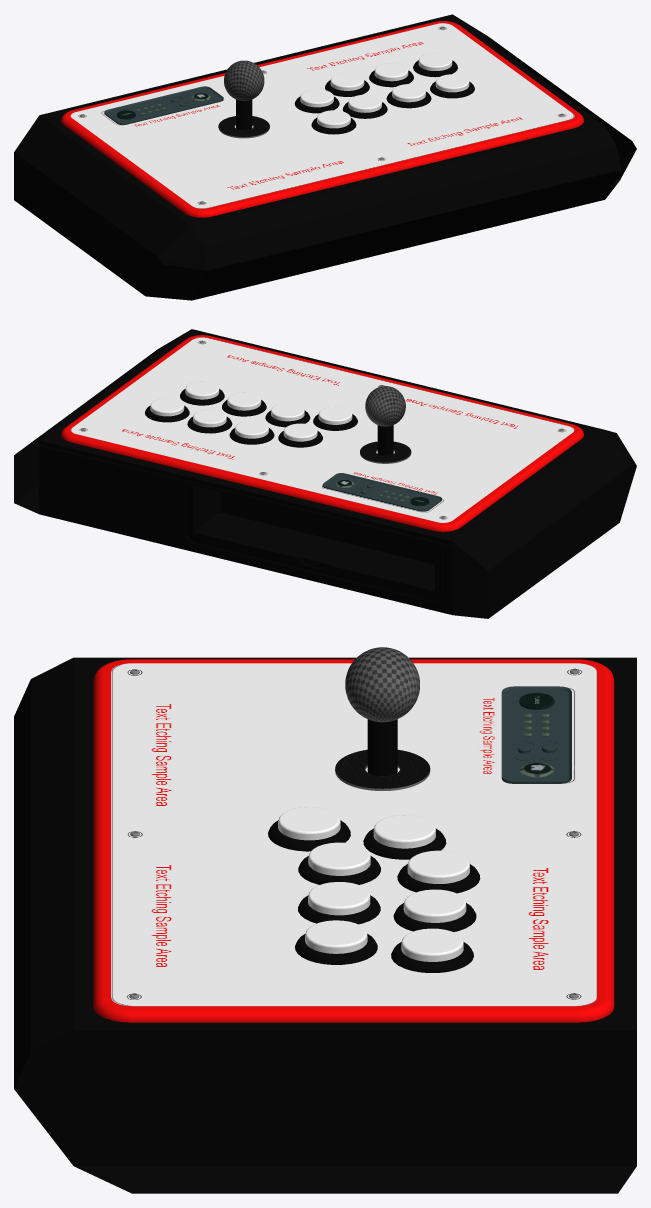
The model's file is TEStick.fbx.
3 views of the same model, one above another, from view 1: azimuth 30°, elevation 25°; view 2: azimuth 150°, elevation 25°; view 3: azimuth 270°, elevation 25° (orthographic). The views are drawn at different scales.
Parts seen in each view (by area): view 1: LaminatedTopTran, StickBodyTran, SideLeftTran, BezelTran, TurboPanelTran, SideRightTran, BalltopTran, DustCoverTran, Plunger8Tran, Plunger1Tran, Plunger2Tran, Plunger5Tran (+5 smaller); view 2: LaminatedTopTran, StickBodyTran, SideLeftTran, BezelTran, SideRightTran, TurboPanelTran, BalltopTran, DustCoverTran, Plunger2Tran, Plunger4Tran, Plunger8Tran, Plunger1Tran (+5 smaller); view 3: LaminatedTopTran, StickBodyTran, SideRightTran, BezelTran, TurboPanelTran, BalltopTran, DustCoverTran, Plunger4Tran, Plunger1Tran, Plunger3Tran, Plunger8Tran, Plunger6Tran (+12 smaller).
Boxes of the visible parts, x1,y1,x2,y2 form: LaminatedTopTran: (70, 23, 574, 208); StickBodyTran: (39, 14, 621, 300); SideLeftTran: (14, 115, 207, 300); BezelTran: (61, 21, 583, 217); TurboPanelTran: (104, 86, 223, 124); SideRightTran: (455, 16, 636, 198); BalltopTran: (224, 60, 264, 101); DustCoverTran: (218, 116, 269, 138); Plunger8Tran: (435, 74, 469, 92); Plunger1Tran: (300, 89, 333, 107); Plunger2Tran: (330, 73, 364, 90); Plunger5Tran: (317, 110, 350, 128); LaminatedTopTran: (70, 337, 574, 522); StickBodyTran: (39, 329, 604, 614); SideLeftTran: (452, 430, 636, 618); BezelTran: (61, 335, 583, 531); SideRightTran: (14, 330, 189, 513); TurboPanelTran: (322, 473, 441, 511); BalltopTran: (365, 386, 405, 426); DustCoverTran: (360, 441, 411, 463); Plunger2Tran: (235, 420, 268, 438); Plunger4Tran: (150, 398, 184, 416); Plunger8Tran: (185, 381, 219, 399); Plunger1Tran: (283, 423, 317, 441); LaminatedTopTran: (111, 663, 596, 1006); StickBodyTran: (14, 657, 636, 1166); SideRightTran: (14, 1030, 636, 1193); BezelTran: (93, 659, 614, 1022); TurboPanelTran: (501, 686, 571, 783); BalltopTran: (345, 647, 419, 722); DustCoverTran: (335, 749, 430, 790); Plunger4Tran: (401, 928, 463, 961); Plunger1Tran: (373, 815, 435, 848); Plunger3Tran: (403, 889, 466, 922); Plunger8Tran: (305, 920, 367, 953); Plunger6Tran: (308, 842, 370, 875).
Size of the model in its own units: 40.4 by 11.7 by 24.88.
